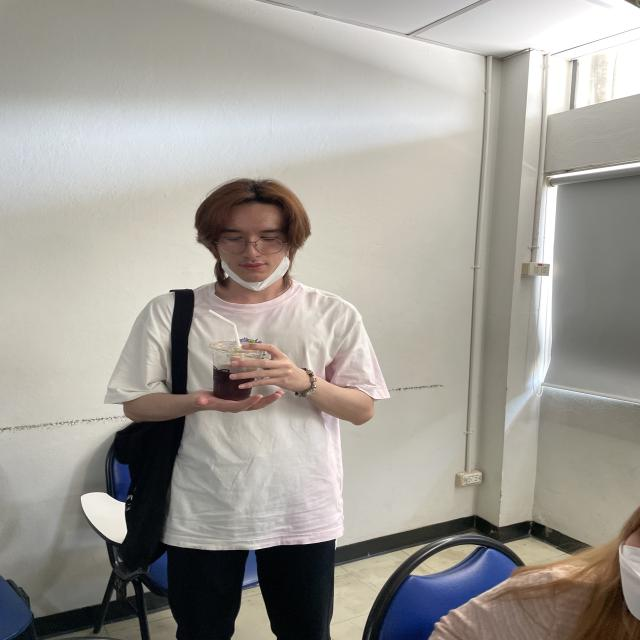cup: (210, 337, 266, 402)
